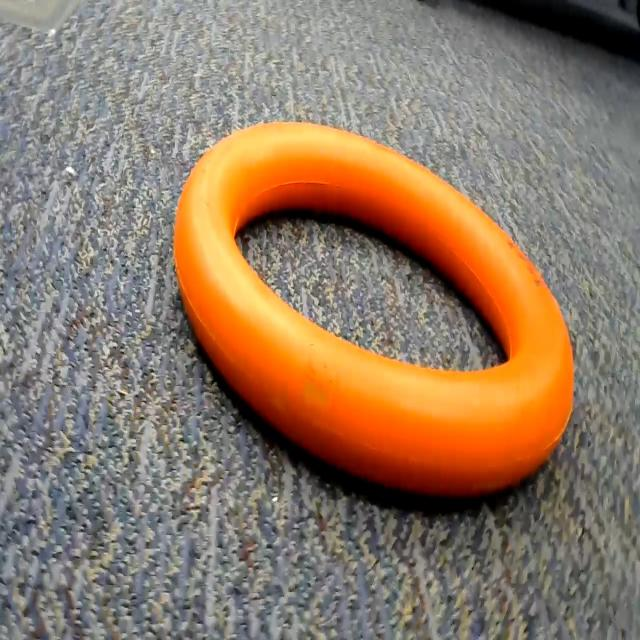note: (173, 120, 596, 512)
